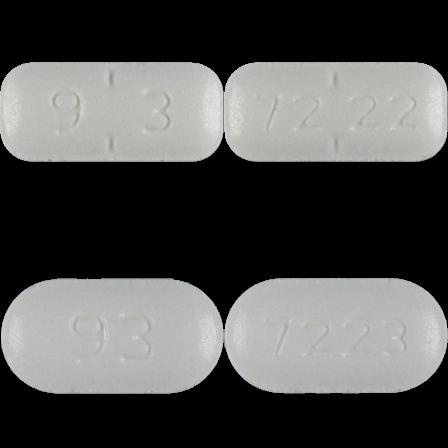0093-7222: (0, 0, 224, 224)
